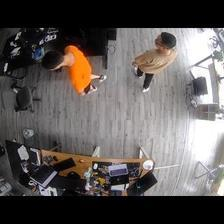normal: (43, 44, 108, 96), (130, 32, 176, 93)
